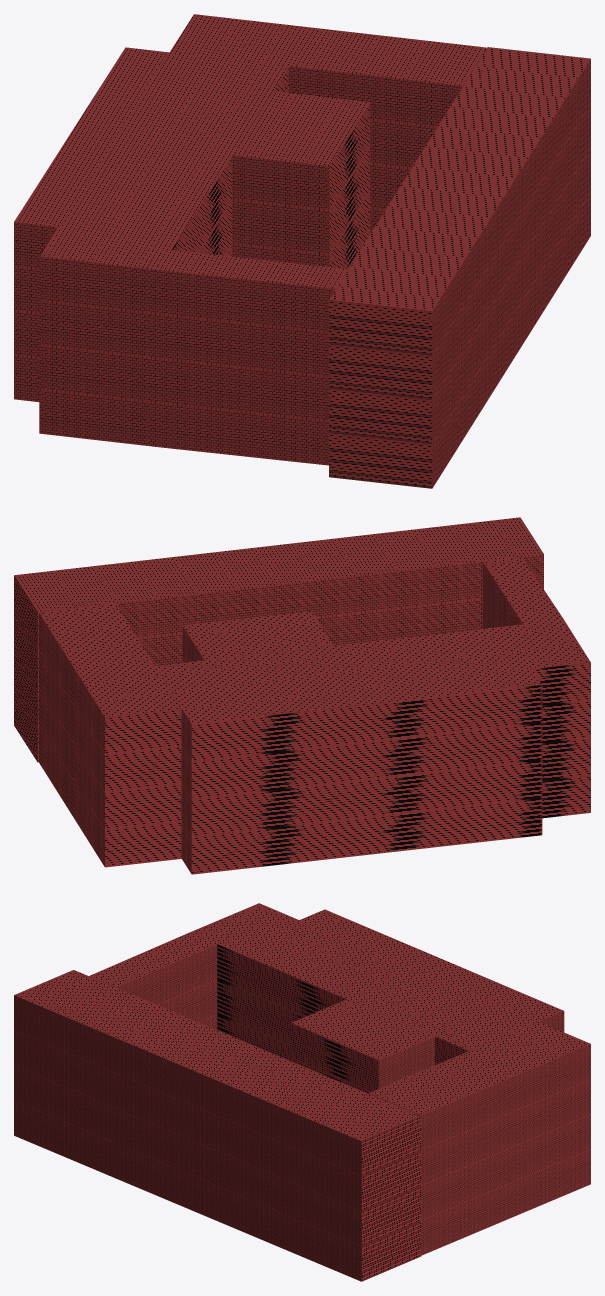
File: jiaoxueloua4_a5.fbx
3 renders of one model, top to bottom at view 1: azimuth 30°, elevation 25°; view 2: azimuth 150°, elevation 25°; view 3: azimuth 270°, elevation 25°, orthographic. The views are drawn at different scales.
Parts seen in each view (by area): view 1: CityEngineMaterial_m; view 2: CityEngineMaterial_m; view 3: CityEngineMaterial_m.
Part boxes in pixels (box(x1,y1,x2,y2)): CityEngineMaterial_m: box(14, 14, 590, 488); CityEngineMaterial_m: box(14, 517, 590, 874); CityEngineMaterial_m: box(14, 903, 590, 1281).
Bounding box in the file's own units: 72.73 × 20 × 74.46.
